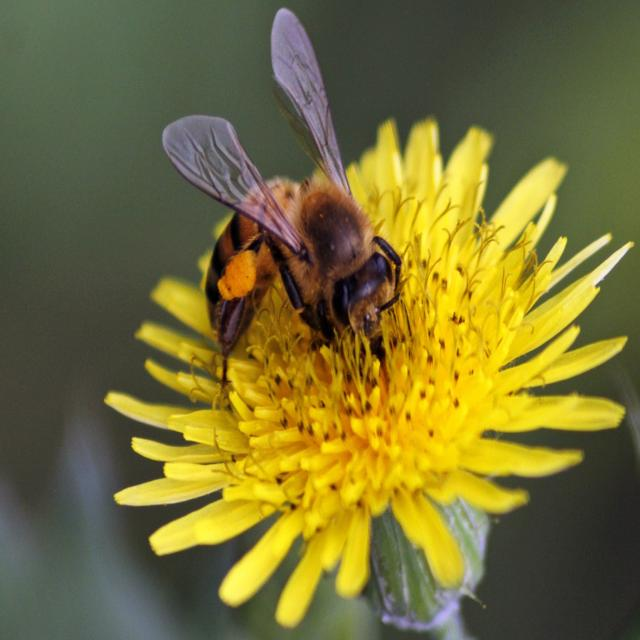Apis-mellifera-scutellata: (144, 0, 424, 409)
